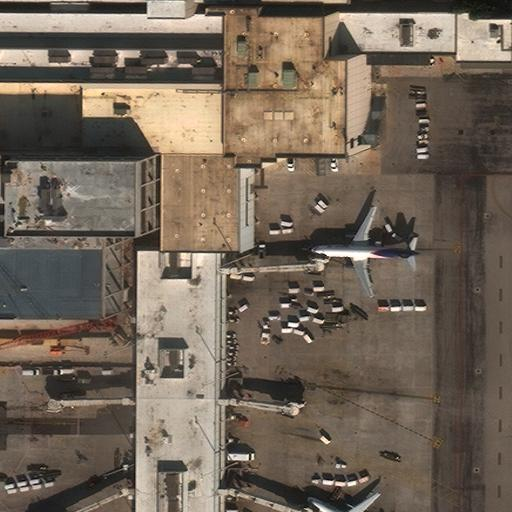Medium Civil Transport: (310, 206, 419, 298), (307, 491, 384, 512)
